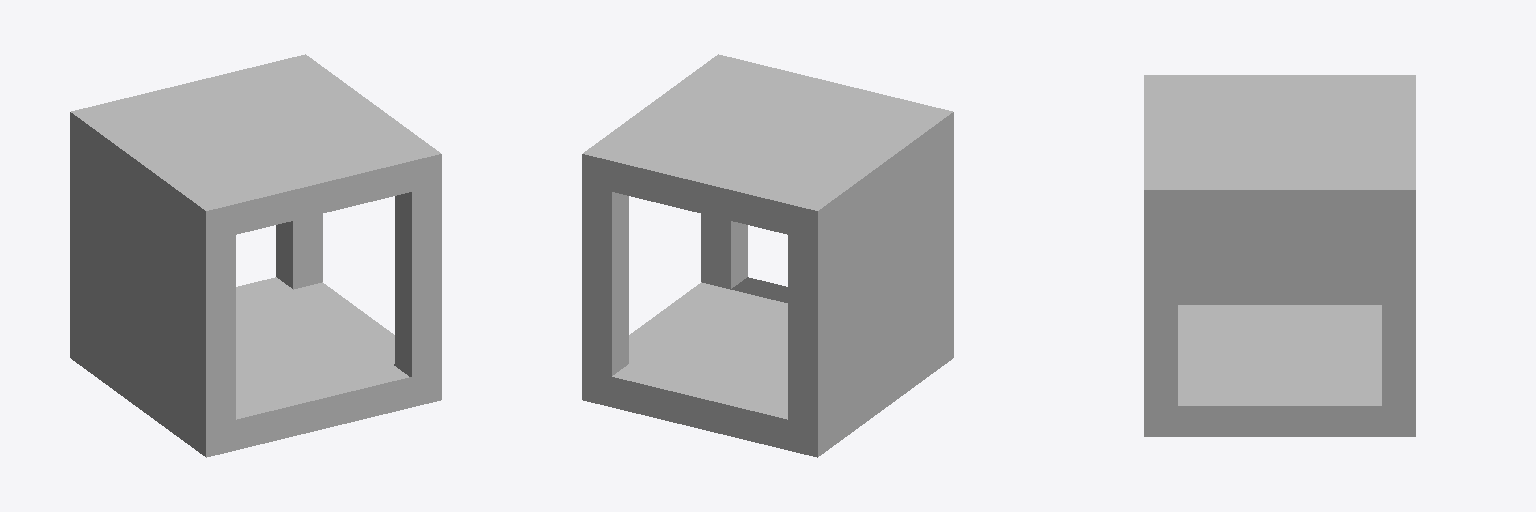
Rendered from noturningtri.obj.
The picture shows the model from 3 angles: view 1: azimuth 30°, elevation 25°; view 2: azimuth 150°, elevation 25°; view 3: azimuth 270°, elevation 25°; orthographic projection.
Parts seen in each view (by area): view 1: Cube.001; view 2: Cube.001; view 3: Cube.001.
Boxes of the visible parts, x1,y1,x2,y2 form: Cube.001: [70, 54, 441, 457]; Cube.001: [582, 54, 953, 457]; Cube.001: [1144, 75, 1415, 436].
Bounding box in the file's own units: 16 × 16 × 16.